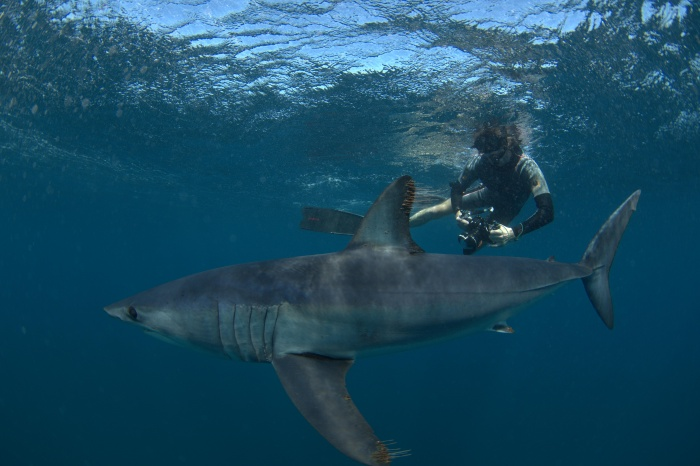Mako: (94, 169, 654, 466)
